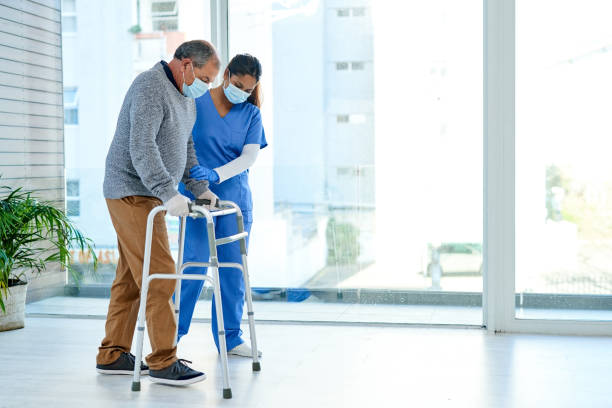without mask: (166, 40, 216, 102), (220, 60, 259, 106)
